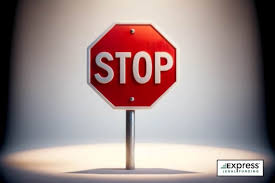stop sign: (85, 21, 179, 109)
